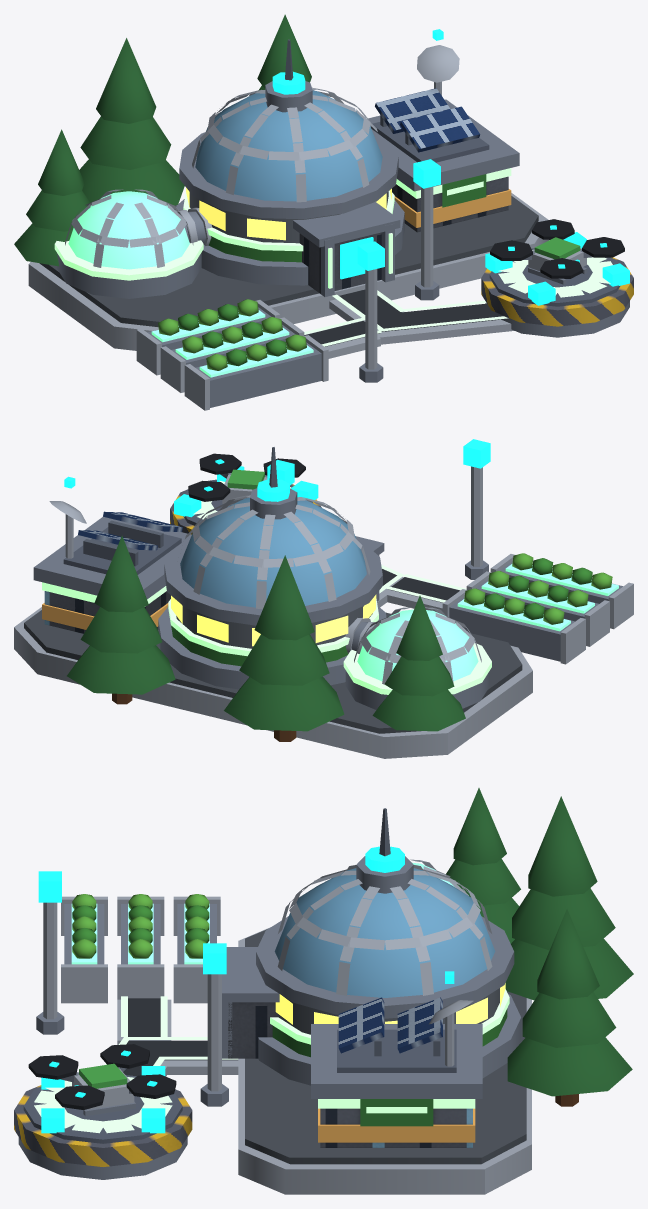
Rendered from homestead_scifi_green.glb.
The picture shows the model from 3 angles, top to bottom: view 1: azimuth 30°, elevation 25°; view 2: azimuth 150°, elevation 25°; view 3: azimuth 270°, elevation 25°; orthographic projection. The views are drawn at different scales.
Parts seen in each view (by area): view 1: homestead_scifi_green; view 2: homestead_scifi_green; view 3: homestead_scifi_green.
Part boxes in pixels (x1,y1,x2,y2): homestead_scifi_green: (14,14,633,410); homestead_scifi_green: (14,439,633,758); homestead_scifi_green: (14,788,633,1194).
Bounding box in the file's own units: 0.5118 × 0.246 × 0.528.
Materials: 5 (1 with a texture image).
